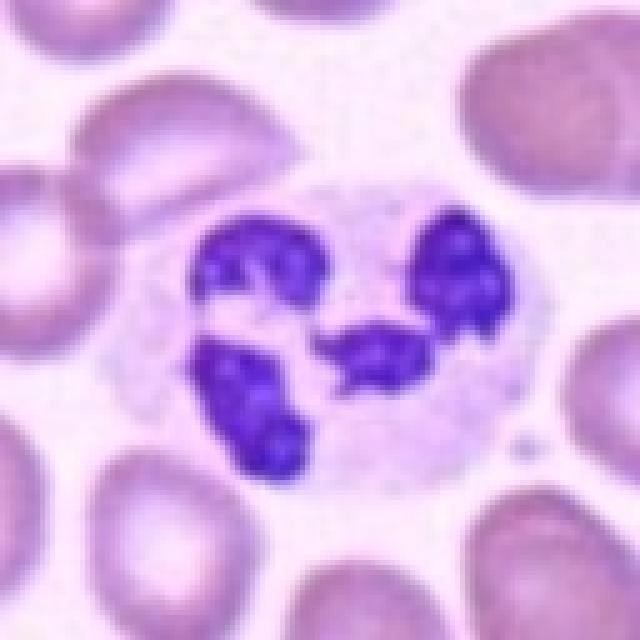neutro: (102, 134, 570, 478)
